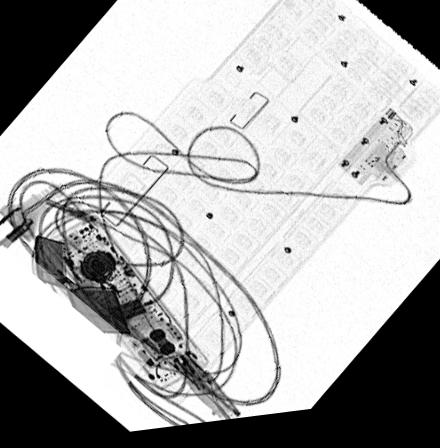Lighter: (32, 236, 131, 338)
